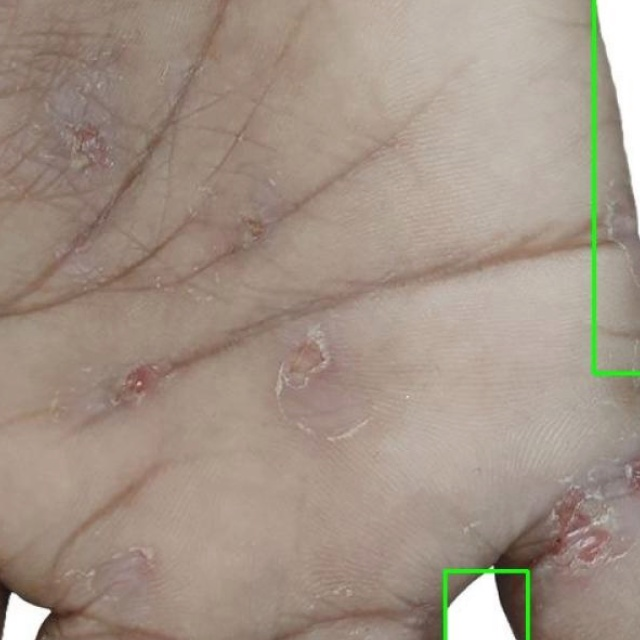Scabies: (445, 570, 527, 639)
